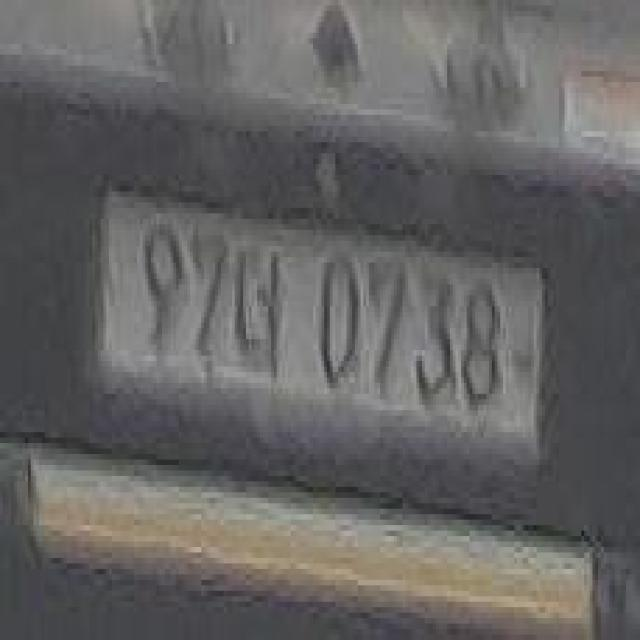0: (314, 240, 360, 400)
3: (416, 262, 456, 409)
7: (362, 250, 411, 402), (188, 224, 228, 368)
8: (458, 272, 506, 406)
9: (140, 211, 180, 365)
deo: (236, 232, 286, 389)
license_plate: (89, 185, 556, 480)
